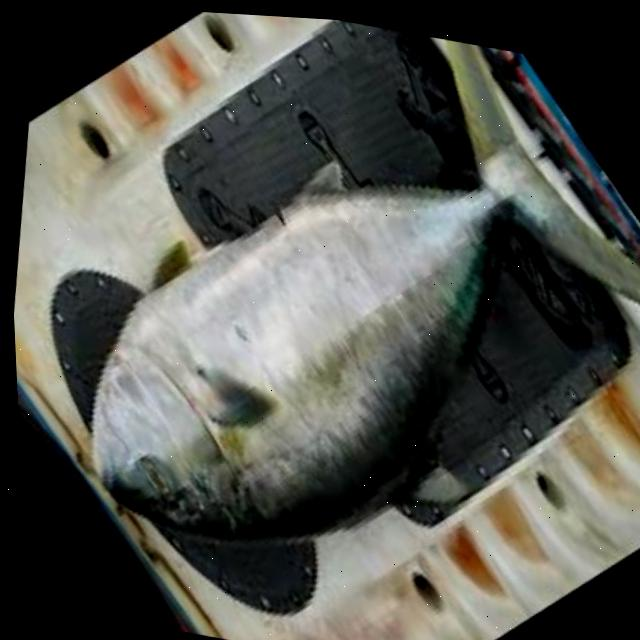Kingfish: (59, 3, 640, 611)
